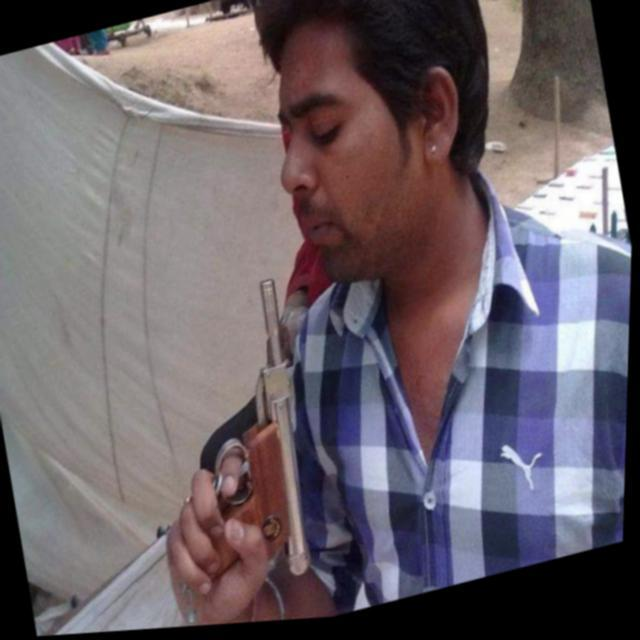weapon: (128, 272, 342, 615)
